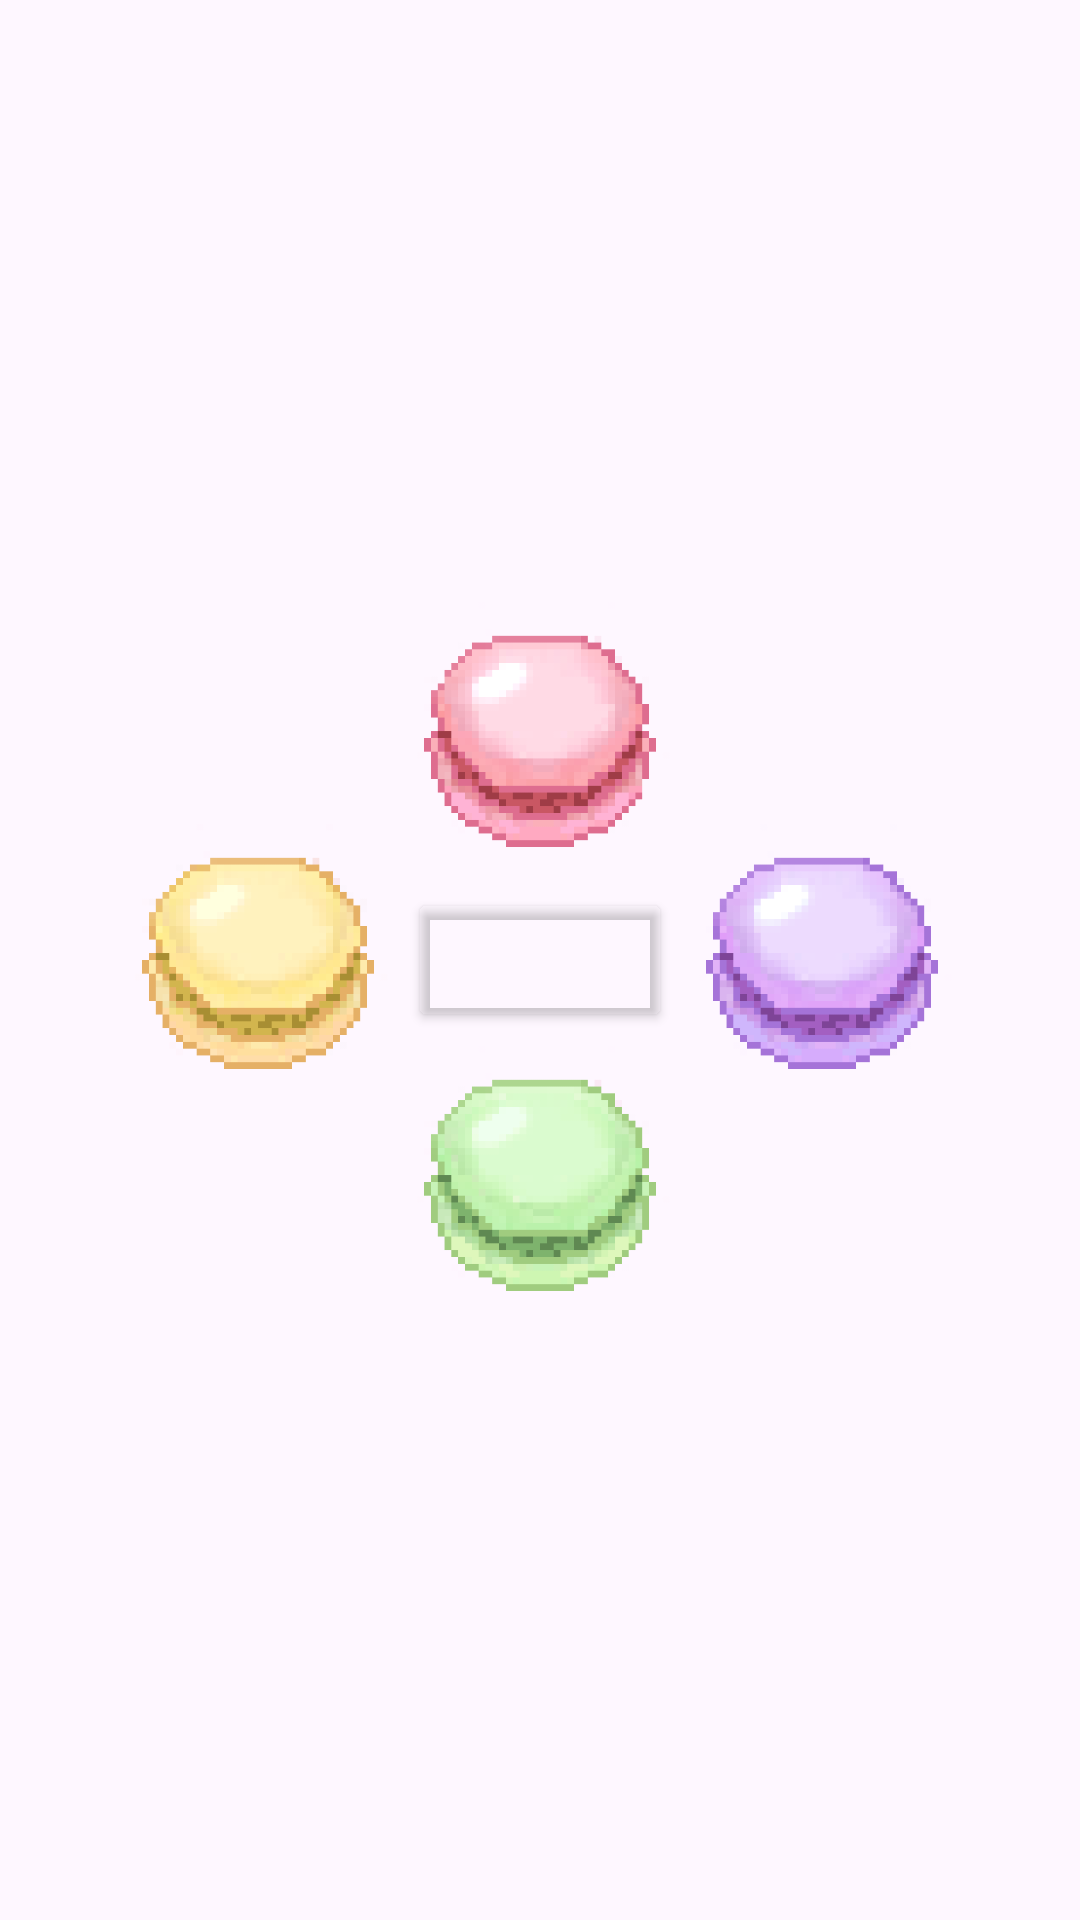

Screen size 1080 × 1920. Icon name, then its center in pixels as (x,y):
macaron: (540,741), (258,963), (822,963), (540,1185)
